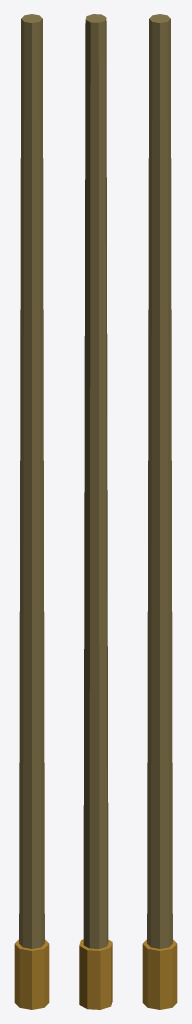
Rendered from g-blowgun.glb.
The picture shows the model from 3 angles, left to right: view 1: azimuth 90°, elevation 25°; view 2: azimuth 150°, elevation 25°; view 3: azimuth 270°, elevation 25°; orthographic projection.
Parts seen in each view (by area): view 1: g-blowgun; view 2: g-blowgun; view 3: g-blowgun.
Part boxes in pixels (left/top/right/bottom): g-blowgun: left=14, top=14, right=49, bottom=1009; g-blowgun: left=79, top=14, right=112, bottom=1009; g-blowgun: left=142, top=14, right=177, bottom=1009.
Size of the model in its own units: 0.032 by 1 by 0.032.
